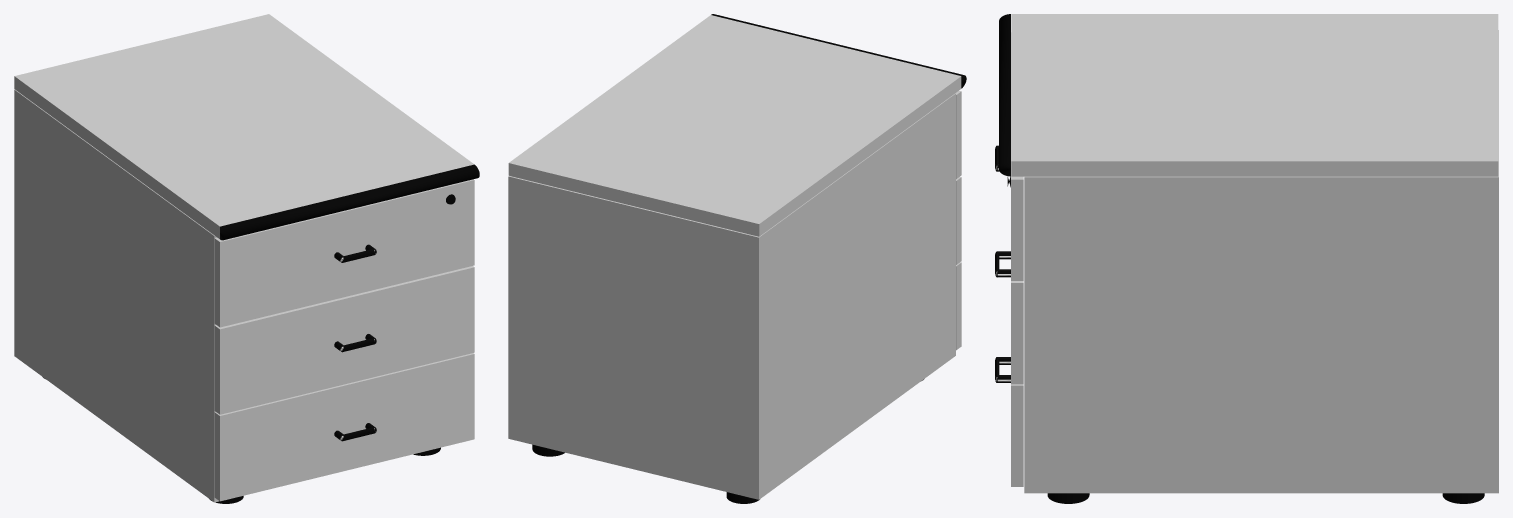
The model's file is ScrivaniaCopiaCassetti.gltf.
3 renders of one model, left to right at view 1: azimuth 30°, elevation 25°; view 2: azimuth 150°, elevation 25°; view 3: azimuth 270°, elevation 25°, orthographic. The views are drawn at different scales.
Visible parts, largest first — view 1: Copia Cassettiera; view 2: Copia Cassettiera; view 3: Copia Cassettiera.
Boxes of the visible parts, x1,y1,x2,y2 form: Copia Cassettiera: (14,14,479,503); Copia Cassettiera: (508,14,966,503); Copia Cassettiera: (995,14,1498,503).
Size of the model in its own units: 0.415 by 0.4593 by 0.5999.
Materials: 3 (1 with a texture image).
